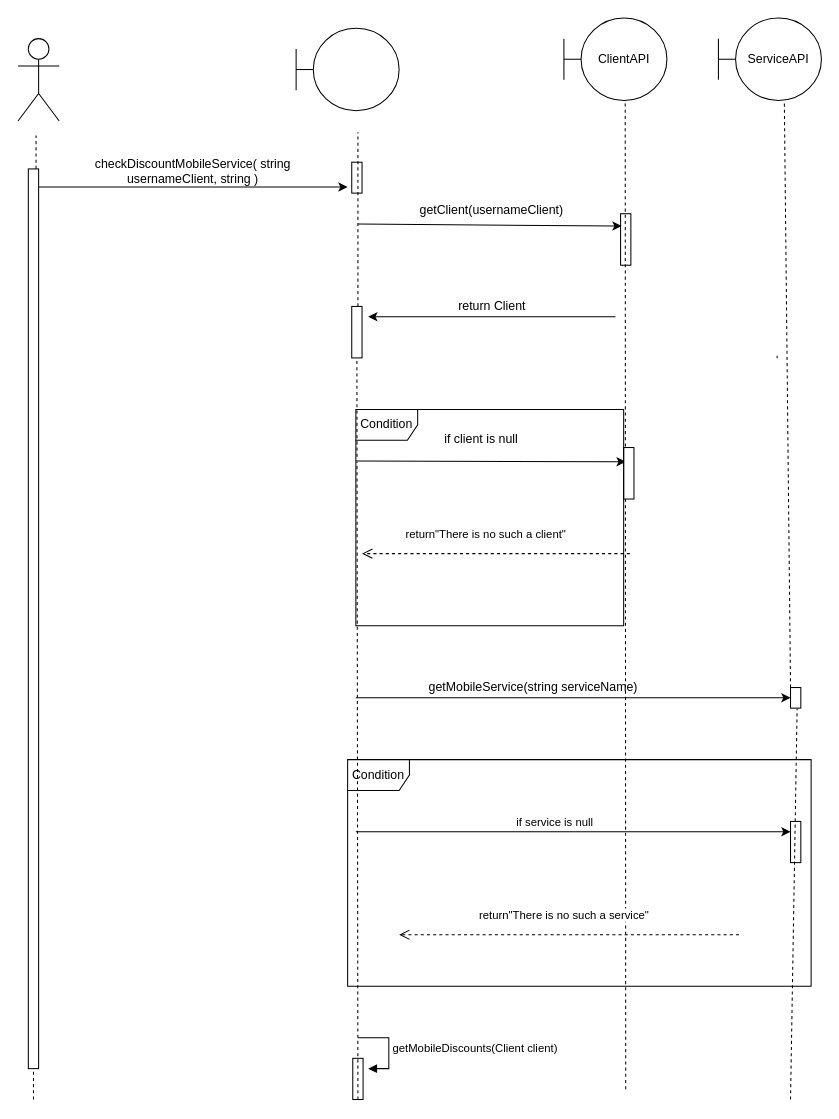
The diagram is 839 pixels wide and 1119 high, and some of its shapes have lost their labels. Each missing label, with the centre of its shape:
"Client" goes at pixel 38 79.
"DiscountAPI" goes at pixel 347 69.
